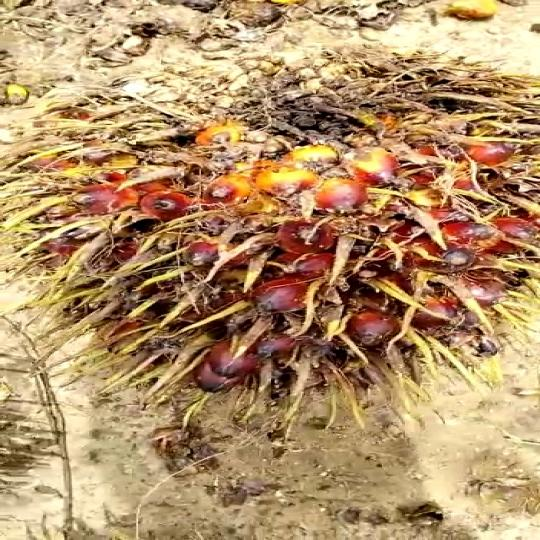masak: (16, 46, 540, 431)
